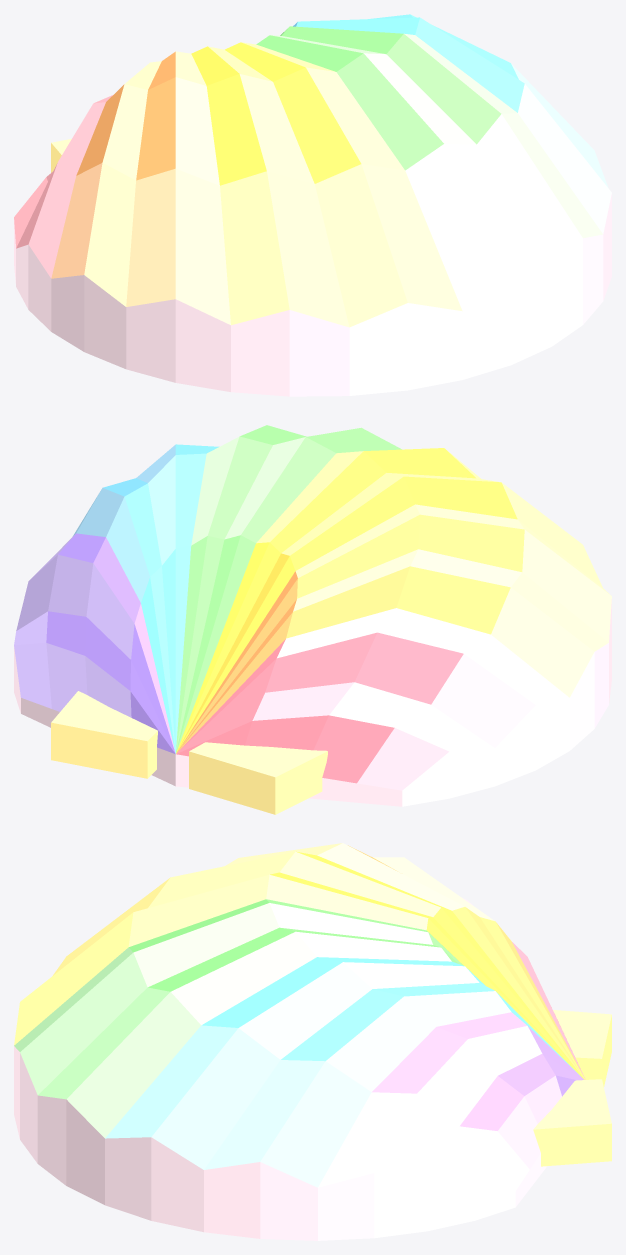
Rendered from rainbow-shell.glb.
3 views of the same model, one above another, from view 1: azimuth 30°, elevation 25°; view 2: azimuth 150°, elevation 25°; view 3: azimuth 270°, elevation 25° (orthographic).
Visible parts, largest first — view 1: rainbow-shell; view 2: rainbow-shell; view 3: rainbow-shell.
Boxes of the visible parts, bbox=[...] form: rainbow-shell: bbox=[14, 14, 611, 396]; rainbow-shell: bbox=[14, 425, 611, 814]; rainbow-shell: bbox=[14, 843, 611, 1240].
Size of the model in its own units: 1.2 by 0.5 by 1.2.
